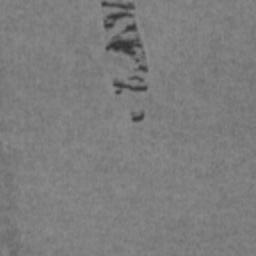Secondary rust skin: (100, 0, 143, 57), (112, 75, 148, 96), (130, 112, 146, 123), (136, 63, 148, 73)
